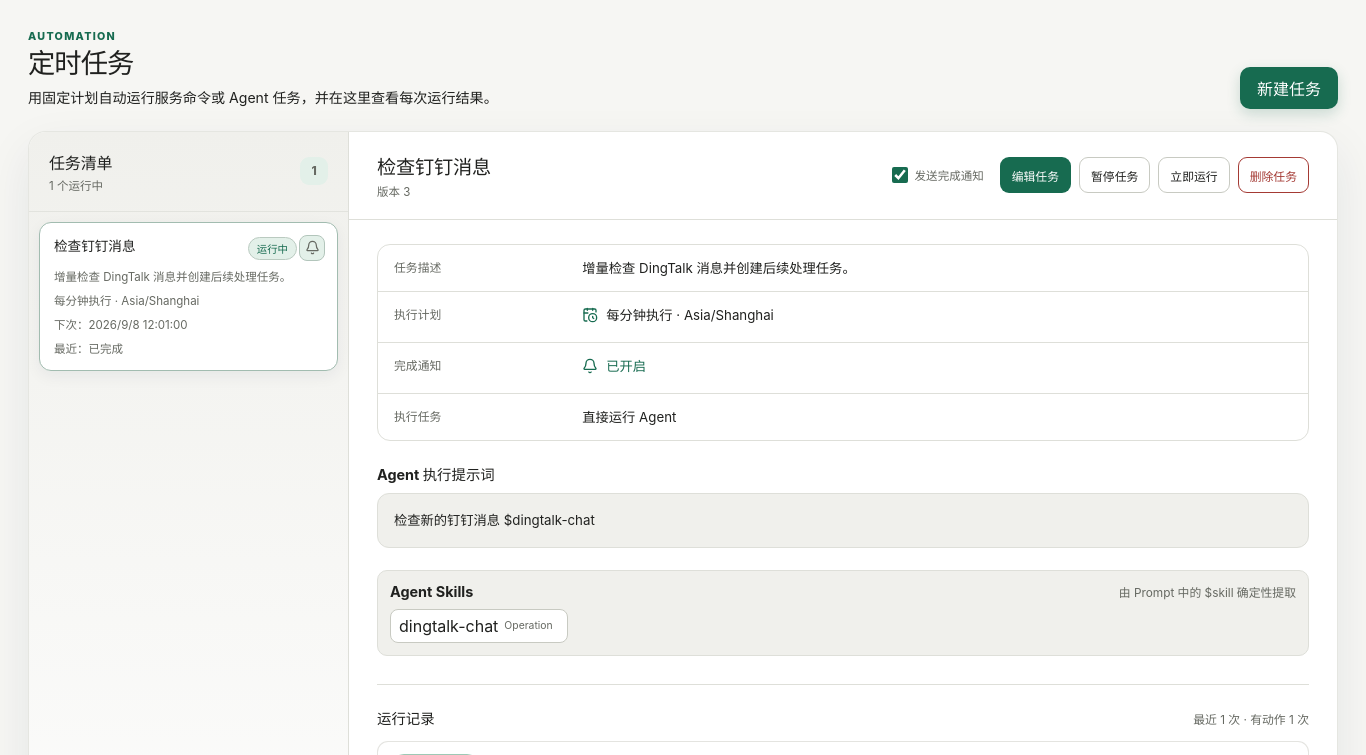
it: ScheduledTasksPage › does not offer pause, run, or delete while an unsaved edit draft is visible
The width and height of the screenshot is (1366, 755).
Click the button "编辑任务": x=1035, y=175 [1000,157,1071,193]
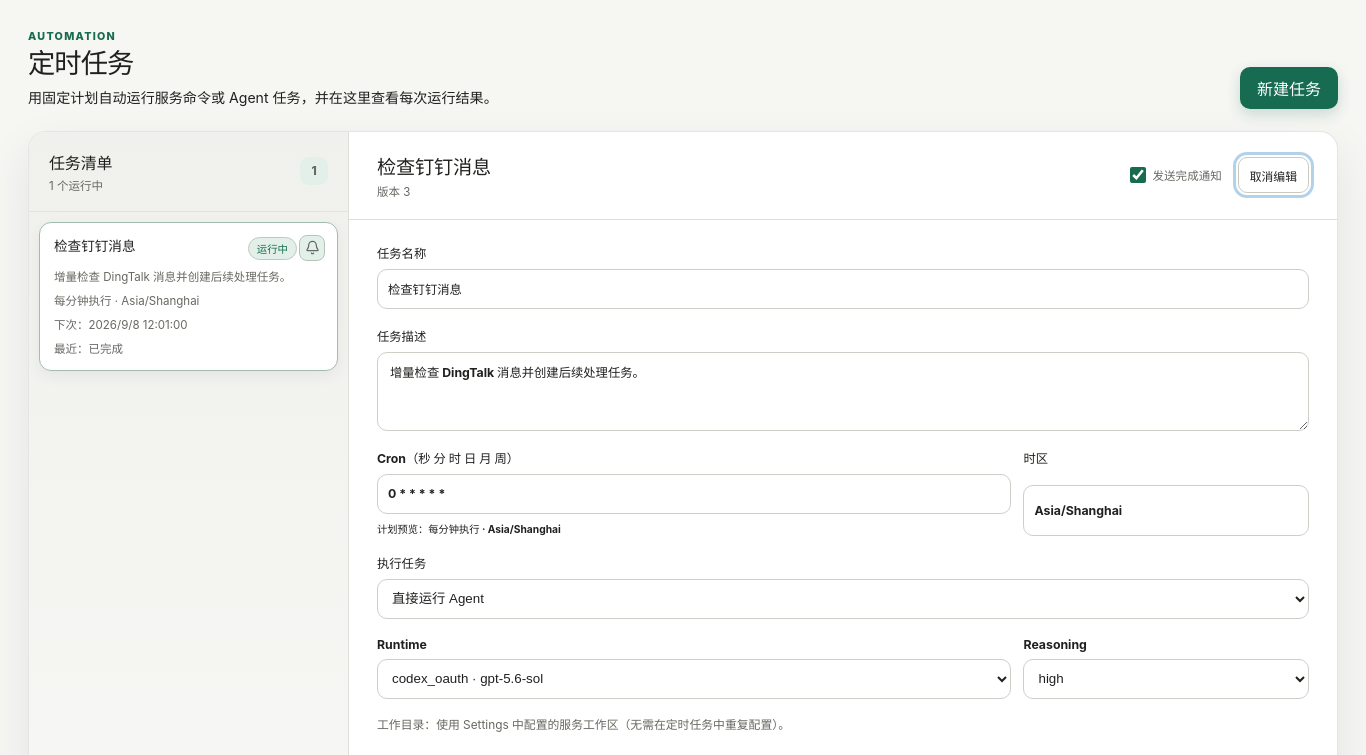
Result: the button "取消编辑" is shown
Result: the button "暂停任务" is gone
Result: the button "立即运行" is gone
Click the button "取消编辑": x=1273, y=175 [1238,157,1309,193]
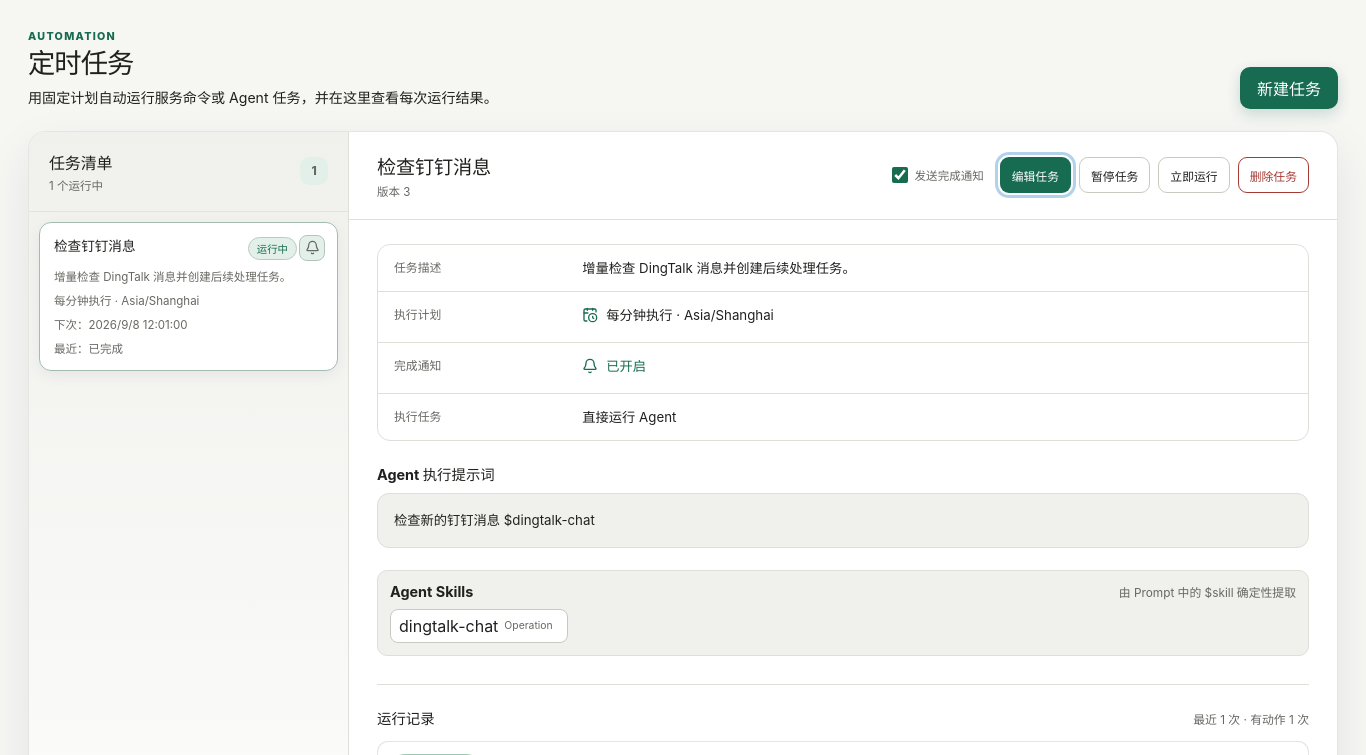
Result: the button "暂停任务" is shown at [1079,157,1150,193]
